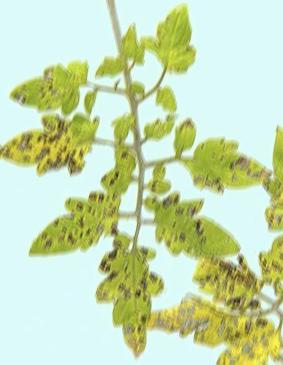Tomato Septoria leaf spot: (131, 286, 283, 365), (161, 119, 277, 214), (88, 230, 162, 365), (143, 185, 243, 281), (18, 187, 124, 258), (0, 113, 102, 179), (0, 54, 92, 119), (187, 259, 272, 323), (137, 7, 202, 88)
